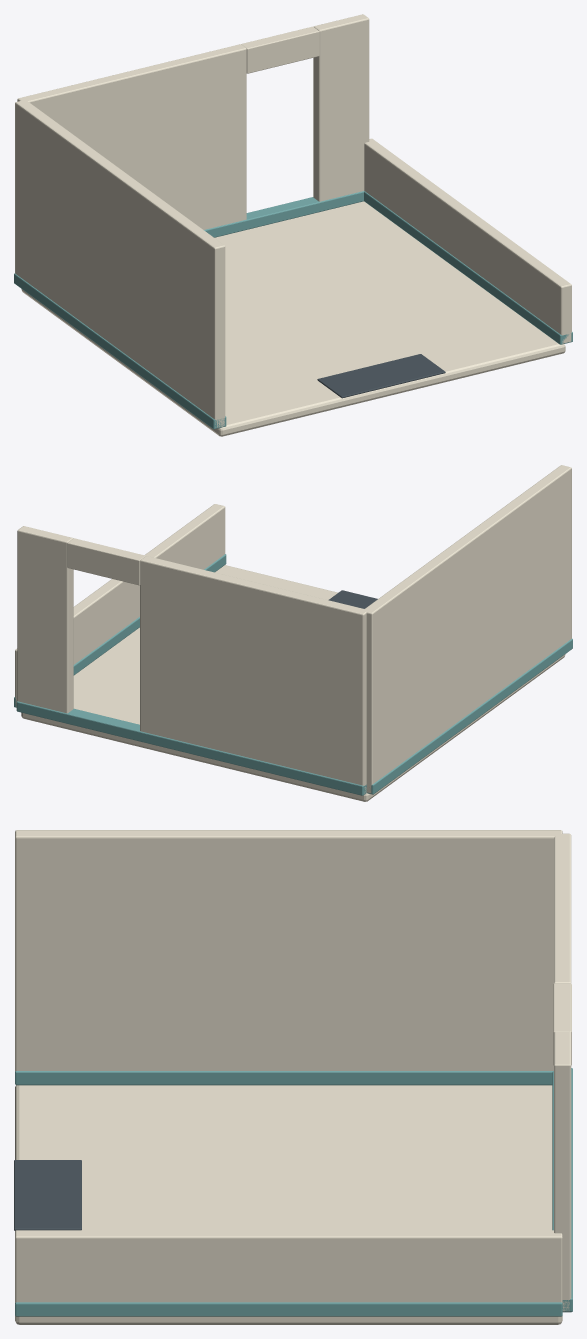
The model's file is lobby_T1_shell.glb.
3 renders of one model, top to bottom at view 1: azimuth 30°, elevation 25°; view 2: azimuth 150°, elevation 25°; view 3: azimuth 270°, elevation 25°, orthographic. The views are drawn at different scales.
Visible parts, largest first — view 1: lobby_T1_shell__Static_Assembly; view 2: lobby_T1_shell__Static_Assembly; view 3: lobby_T1_shell__Static_Assembly.
Boxes of the visible parts, x1,y1,x2,y2 form: lobby_T1_shell__Static_Assembly: [14, 14, 572, 436]; lobby_T1_shell__Static_Assembly: [14, 465, 572, 801]; lobby_T1_shell__Static_Assembly: [14, 830, 572, 1324].
Bounding box in the file's own units: 5.19 × 2.64 × 5.1.
